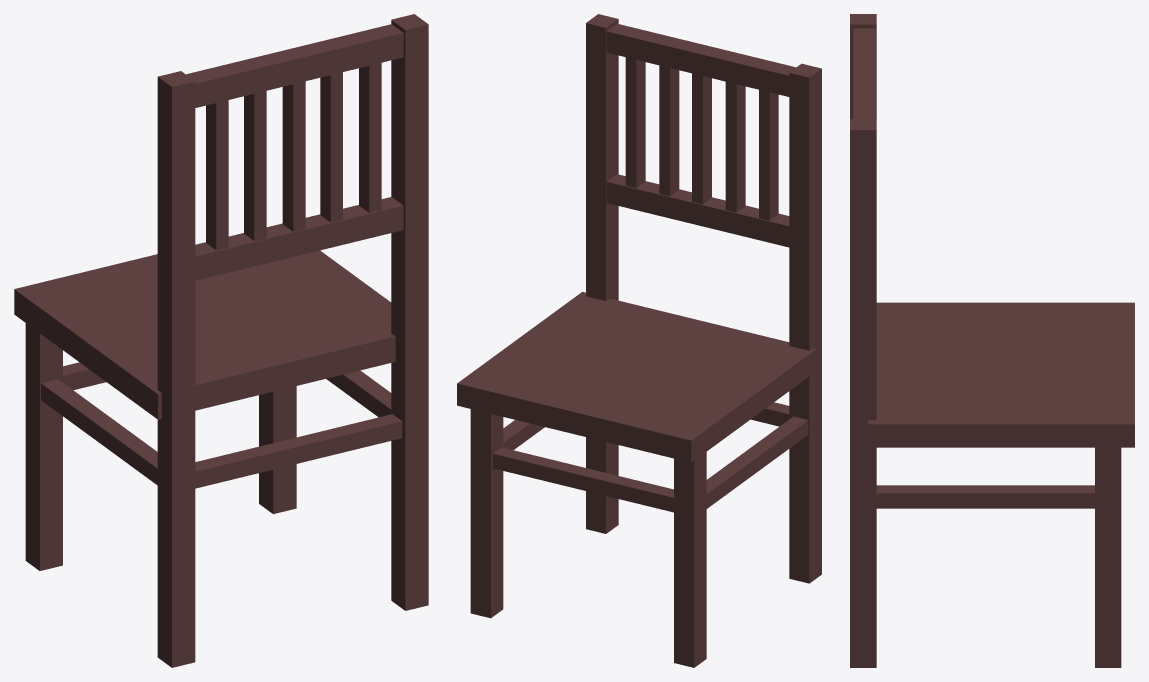
File: chair2.obj
3 views of the same model, side by side, from view 1: azimuth 30°, elevation 25°; view 2: azimuth 150°, elevation 25°; view 3: azimuth 270°, elevation 25° (orthographic). The views are drawn at different scales.
Parts seen in each view (by area): view 1: chair2; view 2: chair2; view 3: chair2.
Part boxes in pixels (x1,y1,x2,y2): chair2: (14, 14, 428, 667); chair2: (457, 14, 821, 667); chair2: (850, 14, 1134, 667).
Bounding box in the file's own units: 0.5412 × 1.12 × 0.536.
